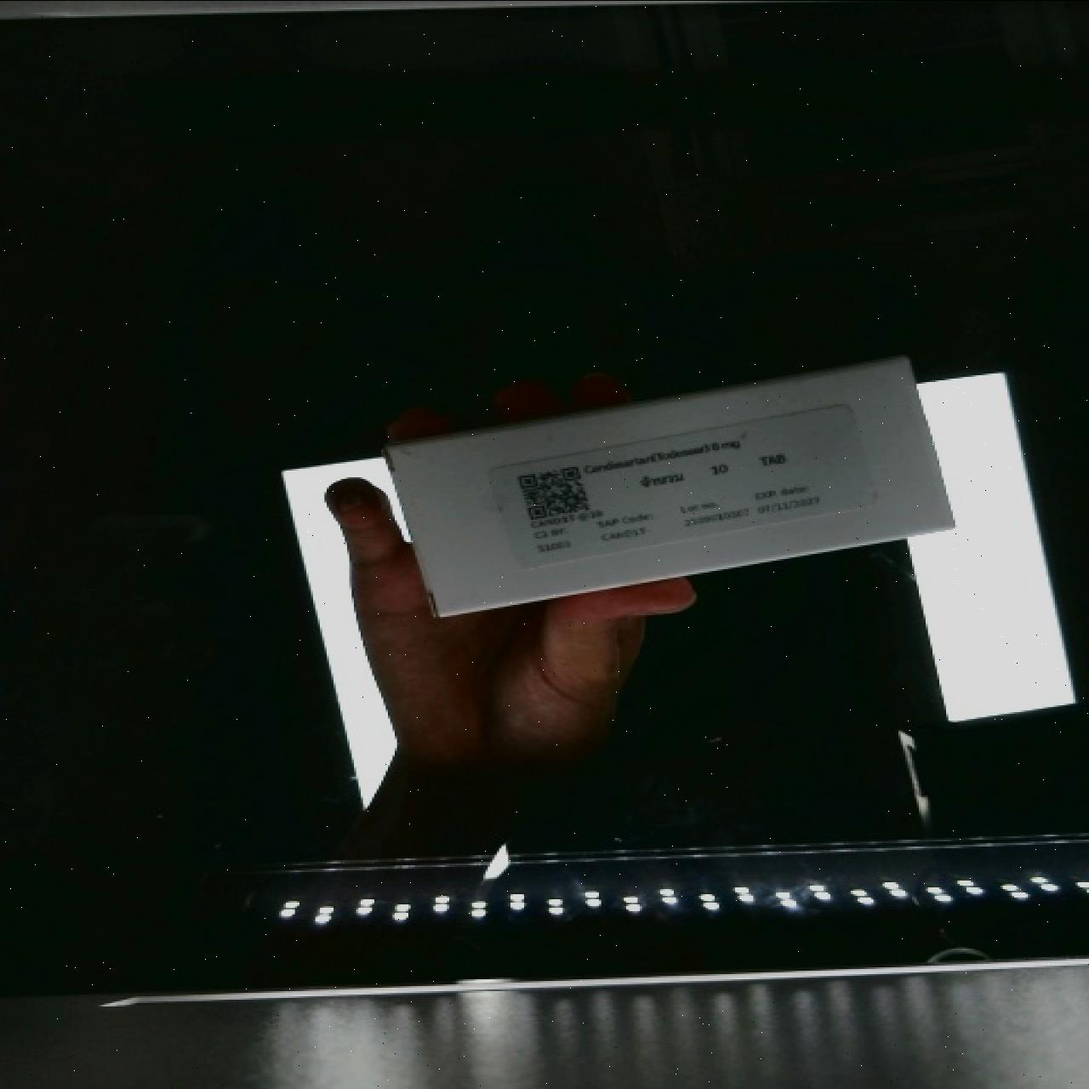qr_code: (485, 445, 614, 541)
